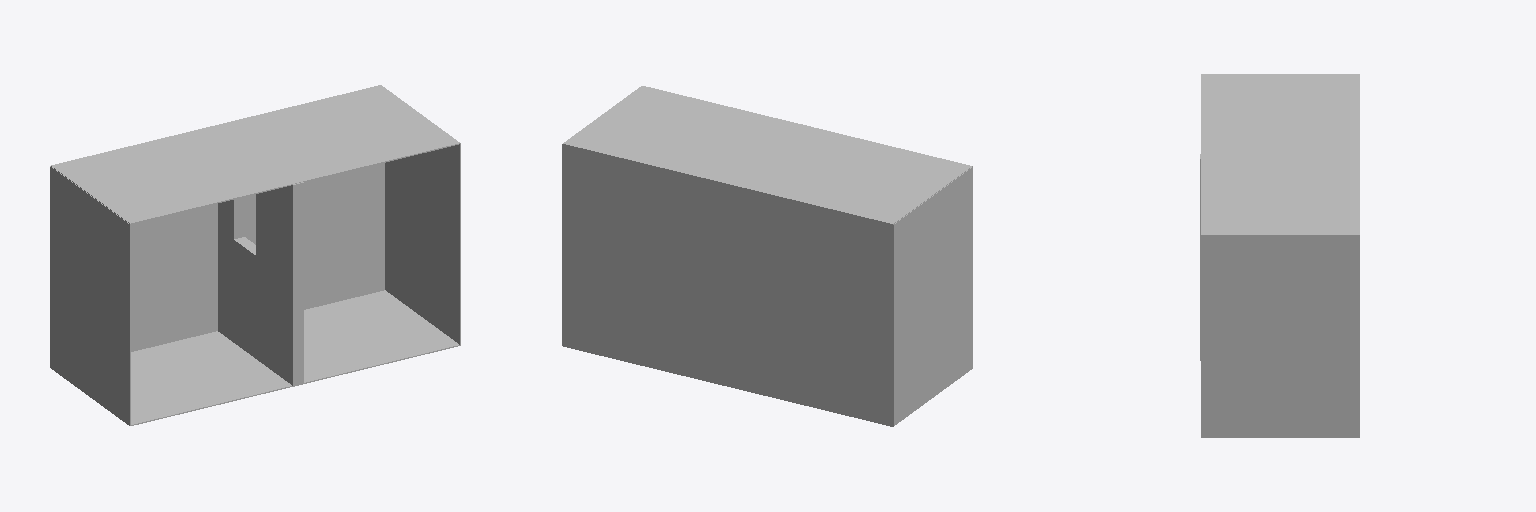
Rendered from LAAS_indoor_window.obj.
3 views of the same model, side by side, from view 1: azimuth 30°, elevation 25°; view 2: azimuth 150°, elevation 25°; view 3: azimuth 270°, elevation 25° (orthographic).
Visible parts, largest first — view 1: Wall3_Cube.004, Floor_Cube.001, Wall4_Cube.005, Wall2_Cube.003, Wall1_Cube.002, Wall_L.002_Cube.009, Wall_T.001_Cube.006, Wall_R.001_Cube.007, Wall_B.001_Cube.008; view 2: Floor_Cube.001, Wall3_Cube.004, Wall2_Cube.003, Wall_L.002_Cube.009; view 3: Wall1_Cube.002, Wall3_Cube.004.
Part boxes in pixels (bbox=[...]): Wall3_Cube.004: bbox=[51, 85, 460, 224]; Floor_Cube.001: bbox=[131, 163, 384, 351]; Wall4_Cube.005: bbox=[64, 290, 460, 425]; Wall2_Cube.003: bbox=[50, 166, 130, 425]; Wall1_Cube.002: bbox=[385, 144, 460, 344]; Wall_L.002_Cube.009: bbox=[218, 228, 303, 386]; Wall_T.001_Cube.006: bbox=[256, 194, 303, 282]; Wall_R.001_Cube.007: bbox=[259, 182, 303, 219]; Wall_B.001_Cube.008: bbox=[218, 197, 244, 238]; Floor_Cube.001: bbox=[563, 145, 892, 425]; Wall3_Cube.004: bbox=[563, 86, 972, 224]; Wall2_Cube.003: bbox=[893, 167, 972, 426]; Wall_L.002_Cube.009: bbox=[720, 281, 730, 386]; Wall1_Cube.002: bbox=[1201, 236, 1359, 437]; Wall3_Cube.004: bbox=[1201, 74, 1359, 235].
Size of the model in its own units: 6.02 by 3.52 by 2.52.